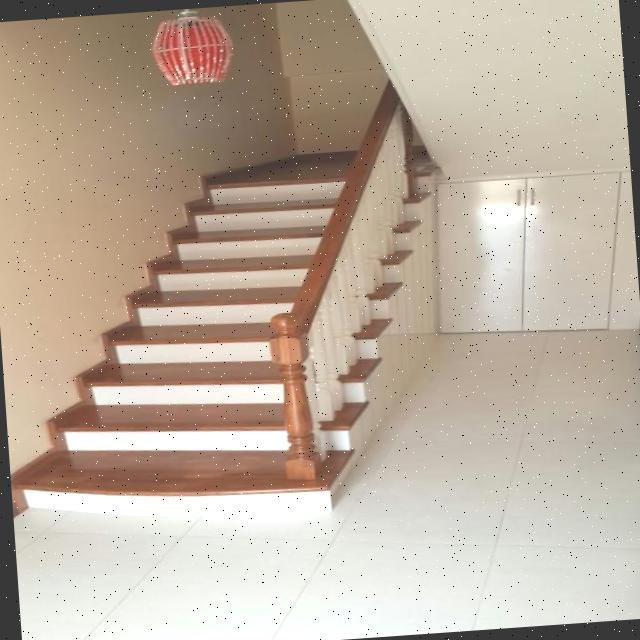stairs: (0, 78, 458, 532)
